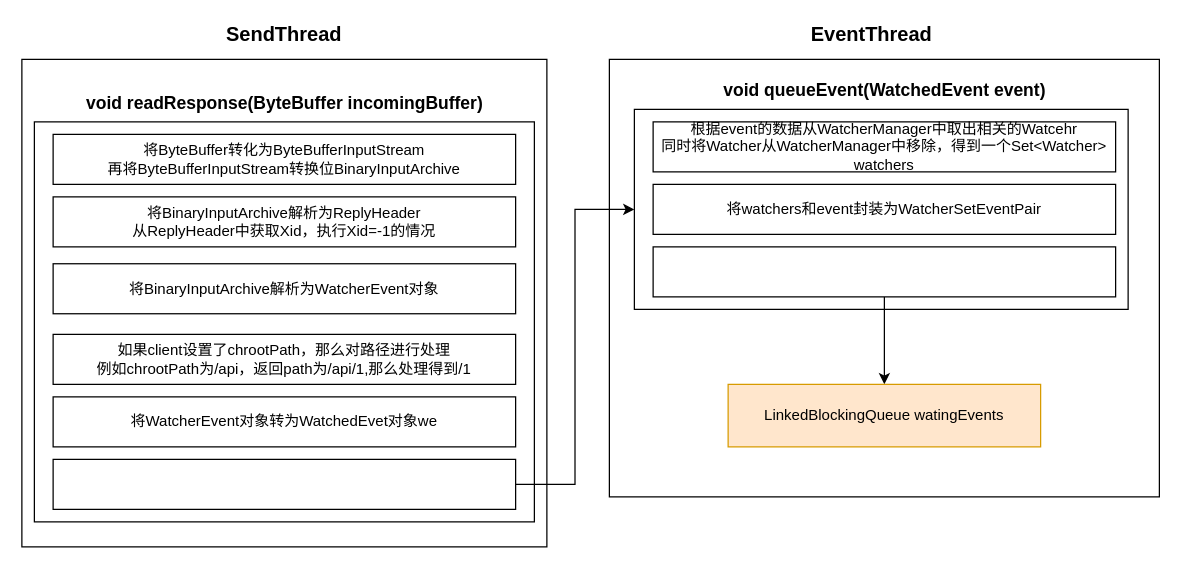
Some shapes in this 1181 by 569 pixel diagram are drawn without their labels. Each missing label, with the centre of its shape:
"eventThread.queueEvent(we)" goes at point 284,483.
"将WatcherSetEventPair放入watingEvnets" goes at point 884,271.
